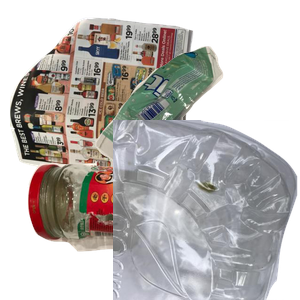glass: (25, 155, 227, 300)
paper: (10, 15, 196, 195)
plastic: (113, 120, 300, 300)
trash: (92, 44, 300, 211)
